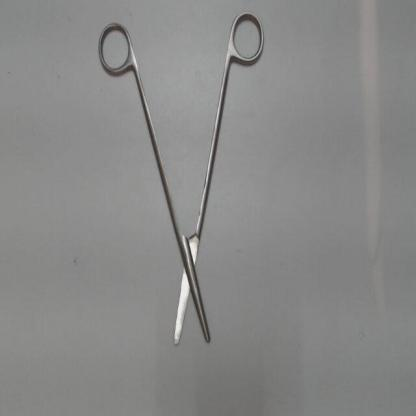9 Metzenbaum Scissors: (93, 8, 271, 355)
